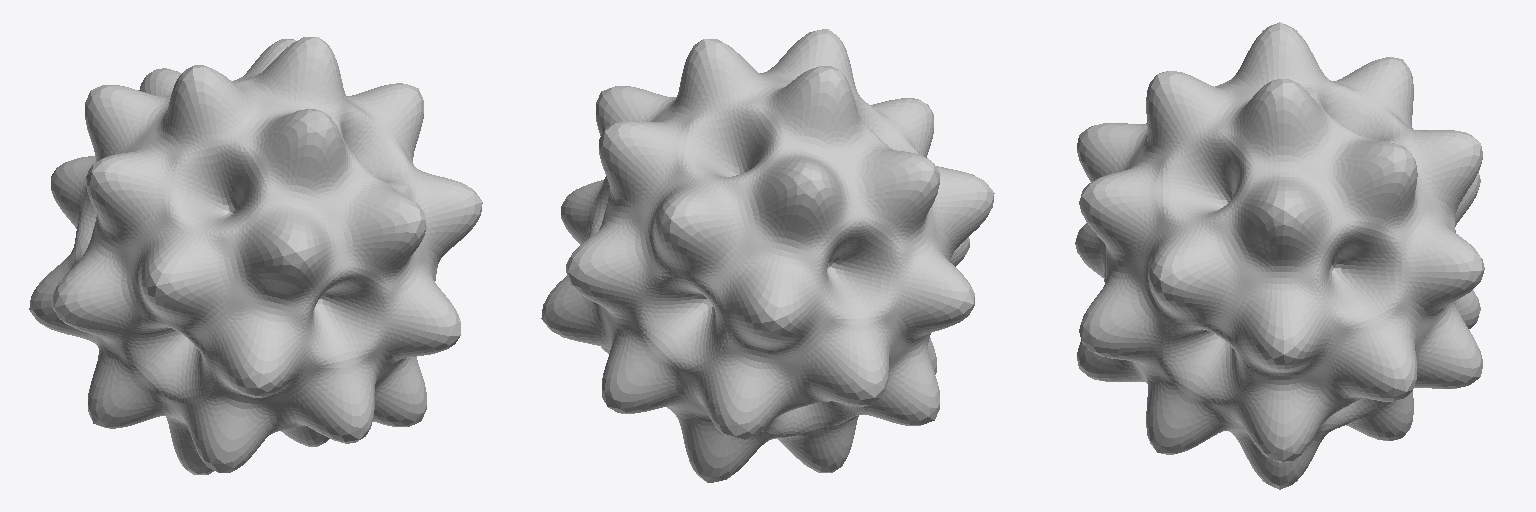
File: strange_object.obj
3 views of the same model, side by side, from view 1: azimuth 30°, elevation 25°; view 2: azimuth 150°, elevation 25°; view 3: azimuth 270°, elevation 25° (orthographic).
Parts seen in each view (by area): view 1: Icosphere; view 2: Icosphere; view 3: Icosphere.
Boxes of the visible parts, x1,y1,x2,y2 form: Icosphere: [29, 37, 482, 474]; Icosphere: [541, 29, 994, 482]; Icosphere: [1075, 22, 1484, 489].
Size of the model in its own units: 1.74 by 1.66 by 1.52.